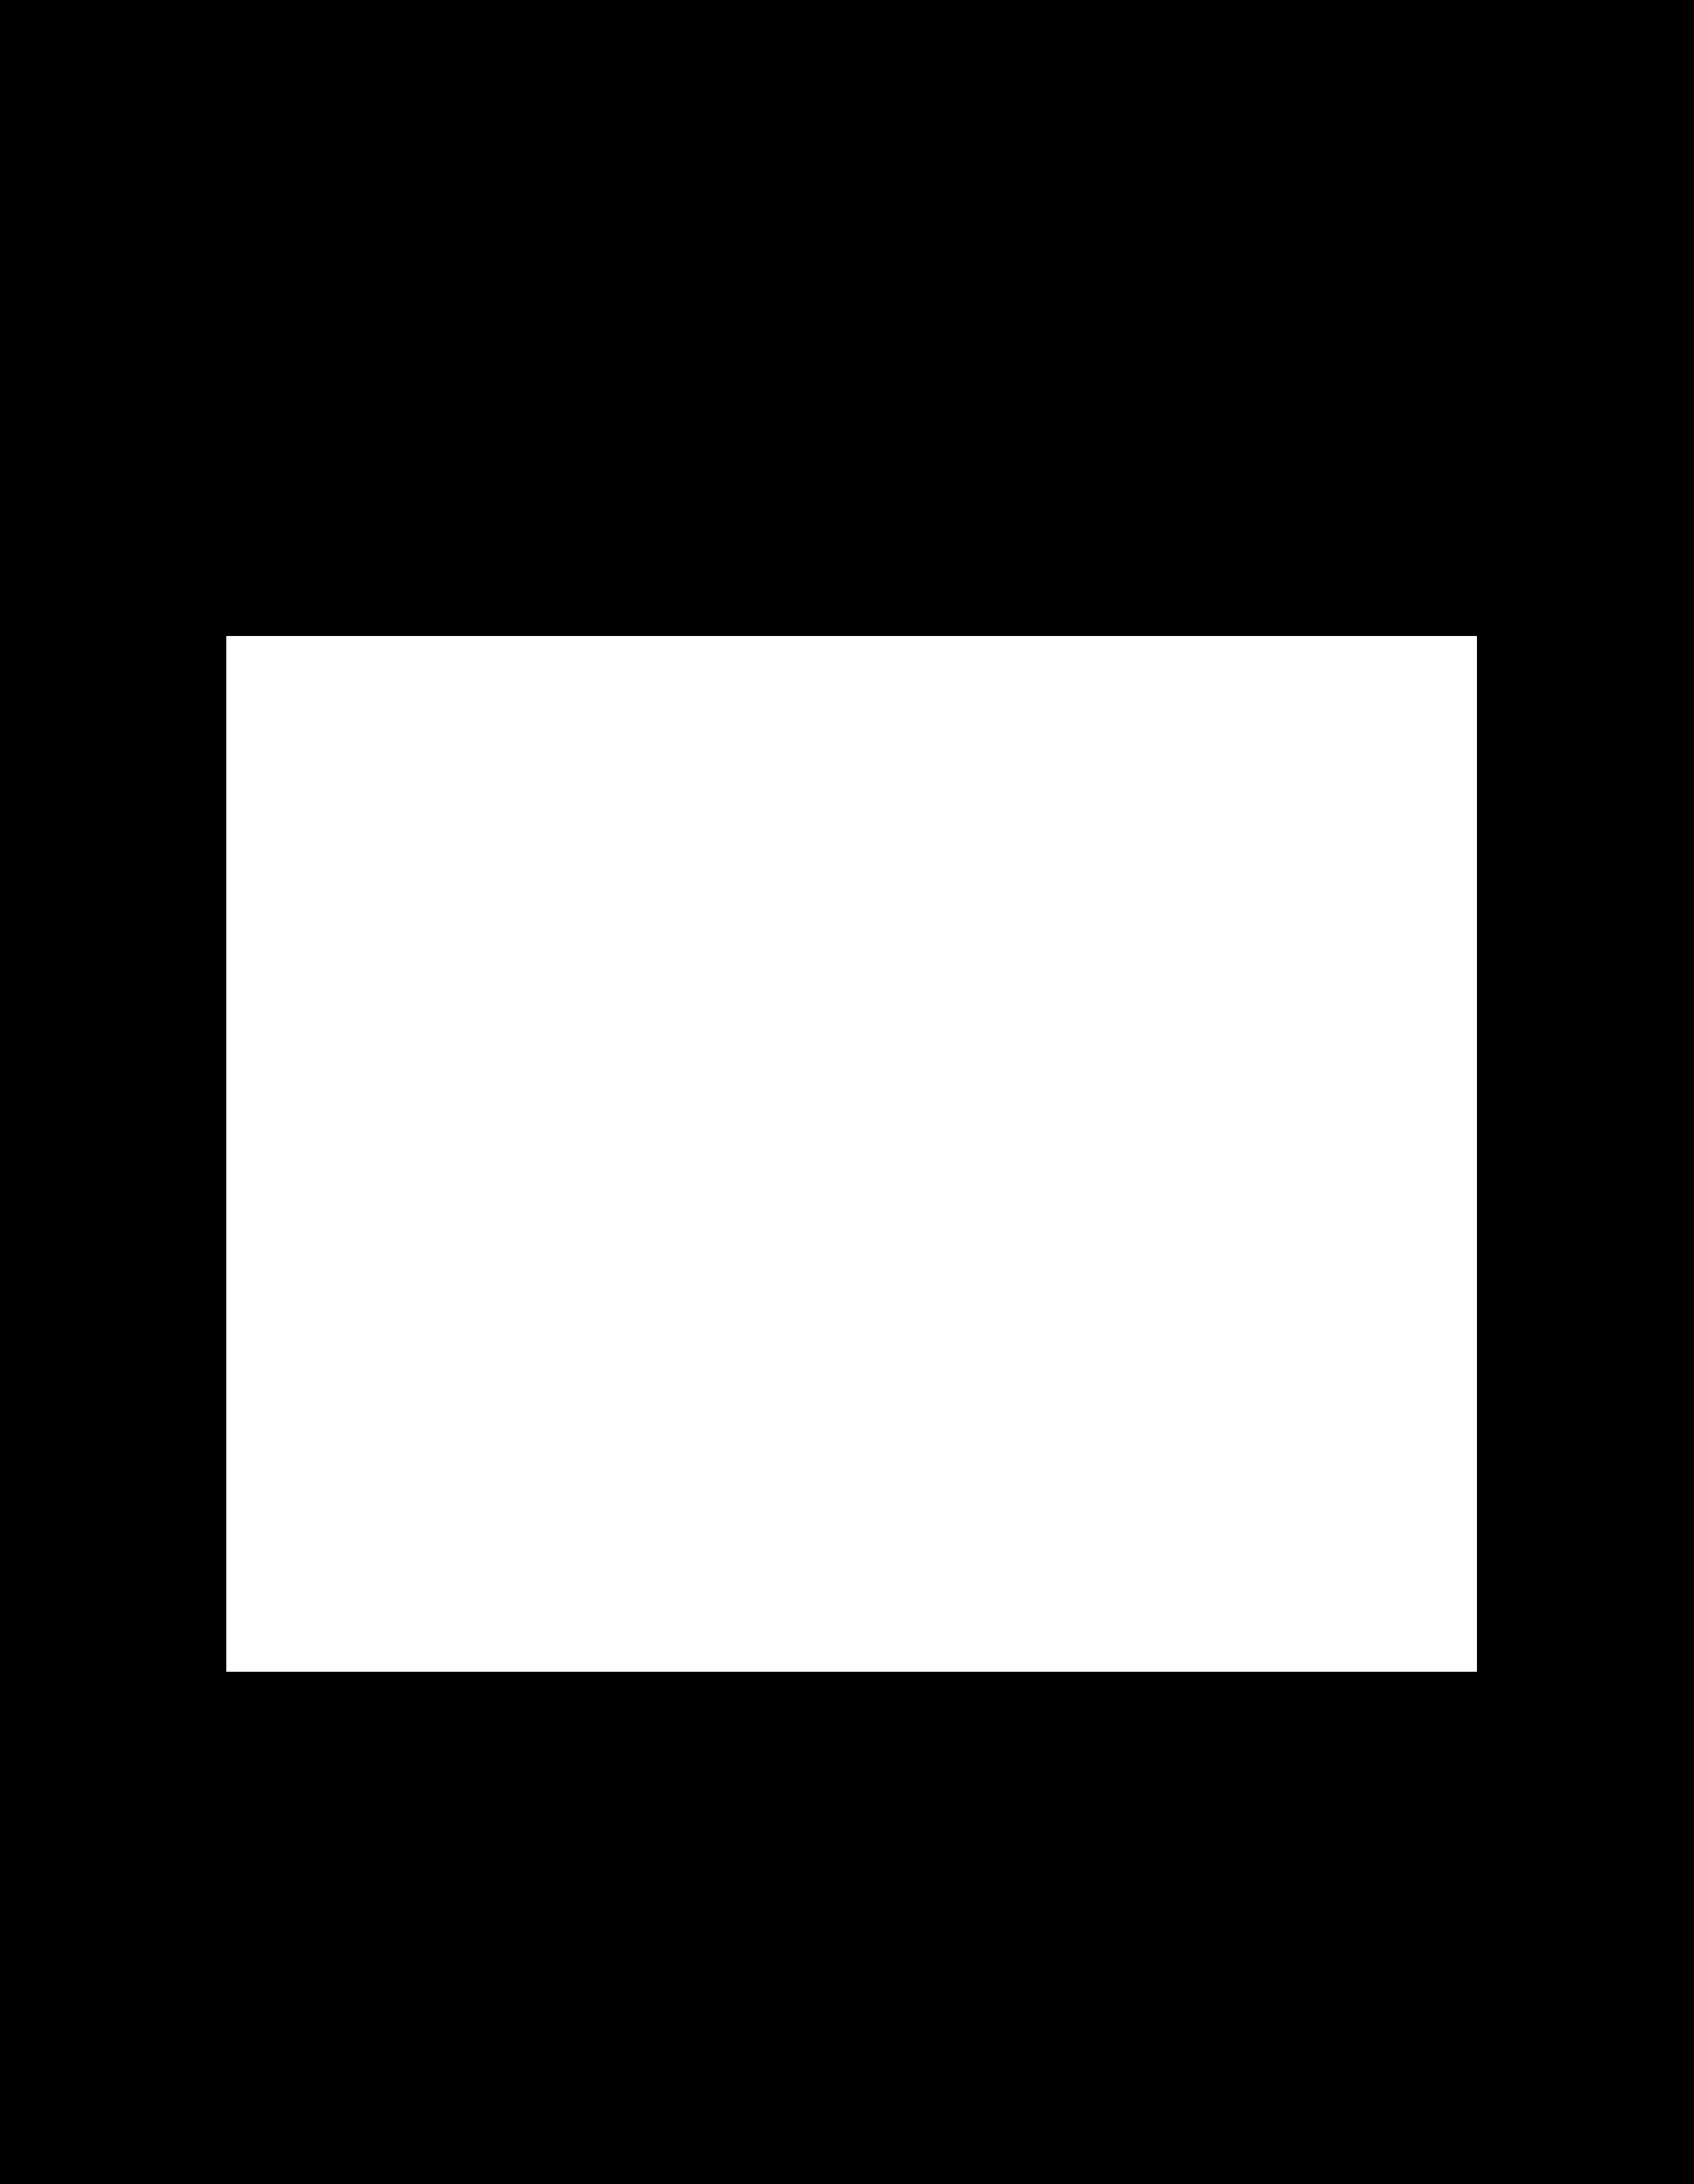table: (227, 636, 1476, 1672)
